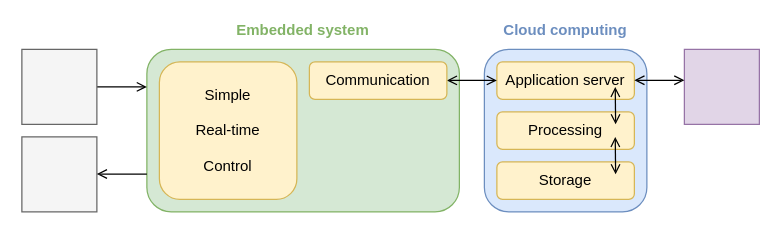
Some shapes in this 781 by 234 pixel diagram are drawn without their labels. The shapes that lost their labels are listed below. From the top down, each one's box as (x1, y1, x2, y2) in pixels, then its label:
(21, 48, 97, 124): Sensor Input
(683, 48, 759, 124): Smart Phone
(21, 136, 97, 212): Control Output
